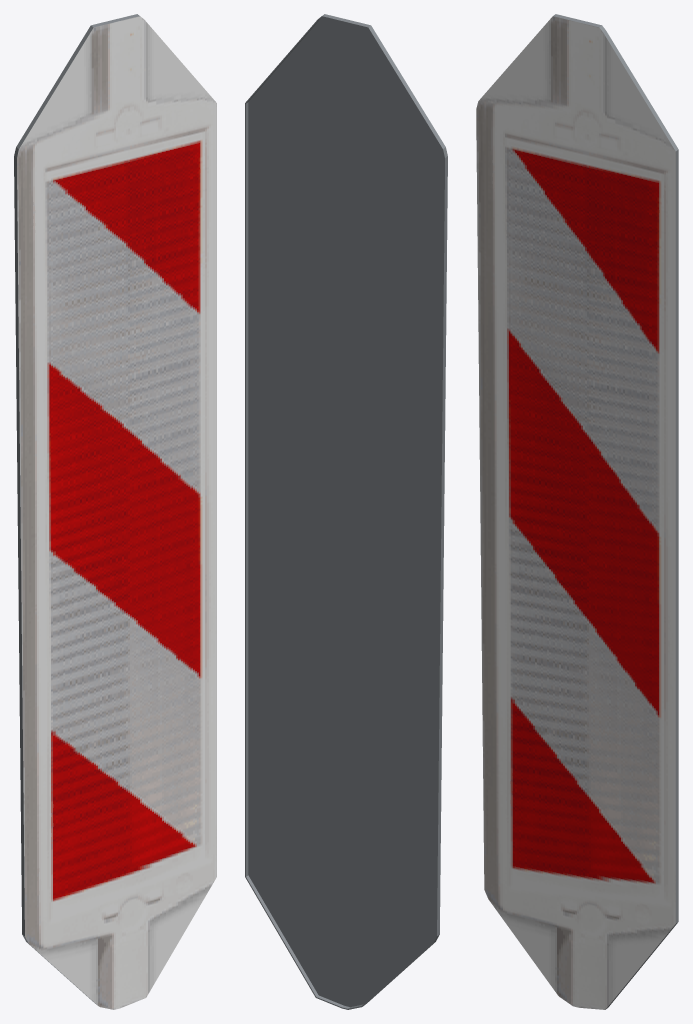
The picture shows the model from 3 angles, left to right: view 1: azimuth 30°, elevation 25°; view 2: azimuth 150°, elevation 25°; view 3: azimuth 330°, elevation 25°; orthographic projection.
Parts seen in each view (by area): view 1: cat_f245a60e4bb648ab; view 2: cat_f245a60e4bb648ab; view 3: cat_f245a60e4bb648ab.
Boxes of the visible parts, x1,y1,x2,y2 form: cat_f245a60e4bb648ab: (14,14,216,1009); cat_f245a60e4bb648ab: (245,14,447,1009); cat_f245a60e4bb648ab: (476,14,678,1009).
Bounding box in the file's own units: 0.6 × 0.015 × 2.83.
Materials: 2 (1 with a texture image).
